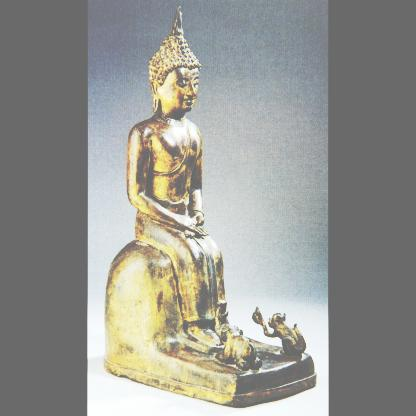buddha-sitting: (117, 14, 240, 357)
